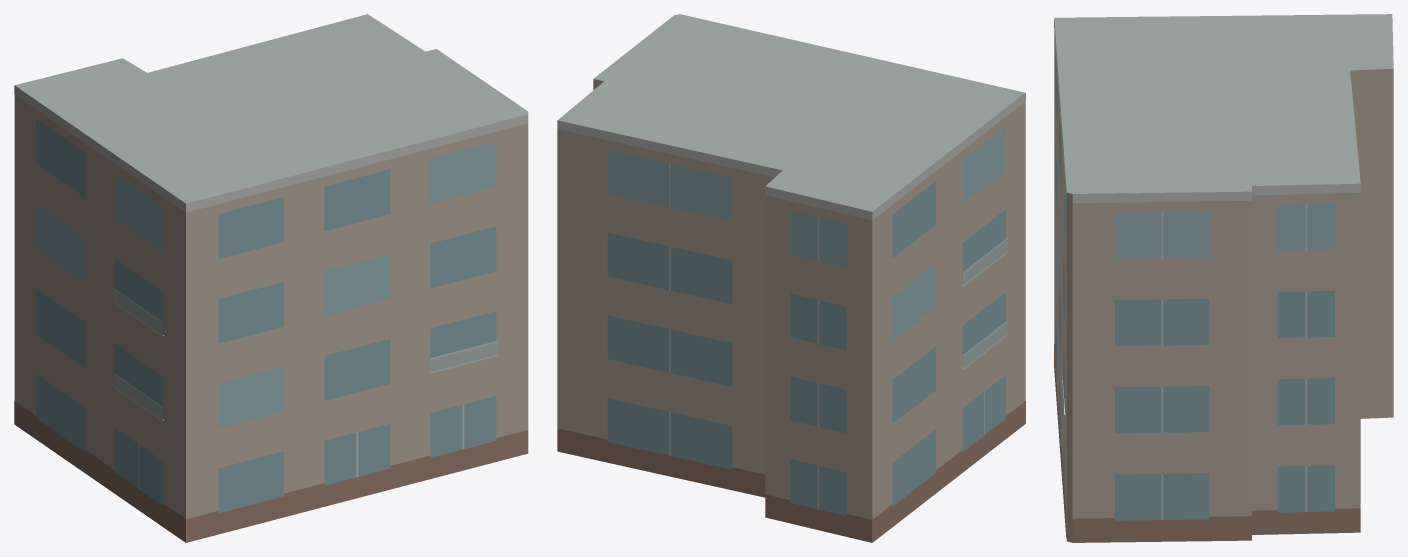
Rendered from survey-upis-32680394.glb.
3 renders of one model, left to right at view 1: azimuth 30°, elevation 25°; view 2: azimuth 150°, elevation 25°; view 3: azimuth 270°, elevation 25°, orthographic. The views are drawn at different scales.
Visible parts, largest first — view 1: survey-upis-32680394.tmp; view 2: survey-upis-32680394.tmp; view 3: survey-upis-32680394.tmp.
Boxes of the visible parts, bbox=[...] form: survey-upis-32680394.tmp: bbox=[14, 14, 528, 542]; survey-upis-32680394.tmp: bbox=[557, 14, 1025, 542]; survey-upis-32680394.tmp: bbox=[1054, 14, 1393, 542].
Bounding box in the file's own units: 10.3 × 9.3 × 8.21.
